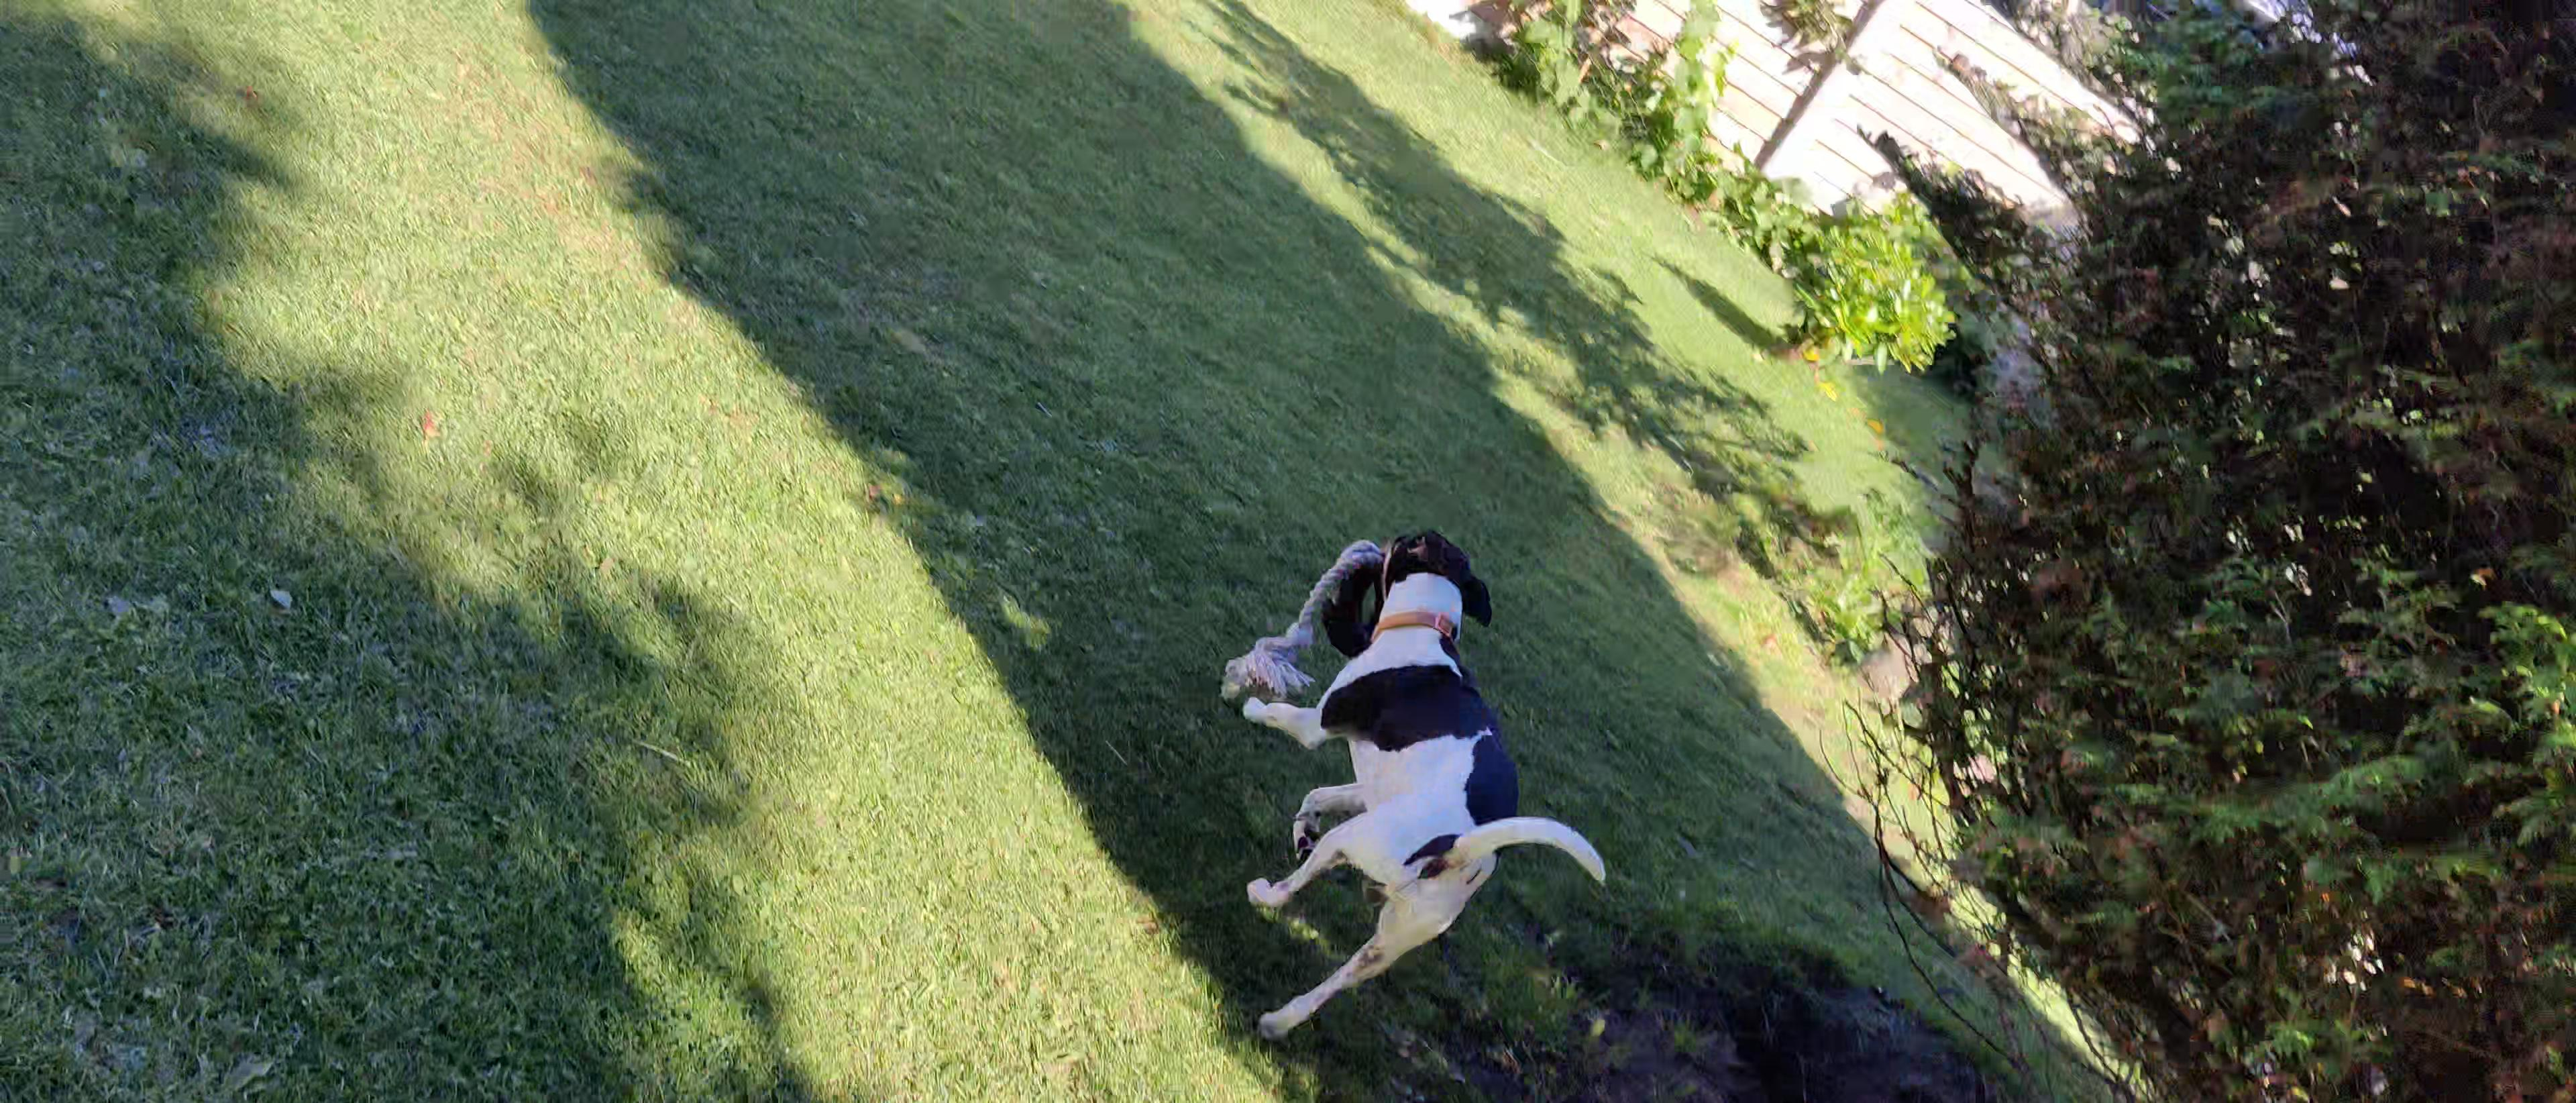Dog: (1234, 518, 1617, 1042)
